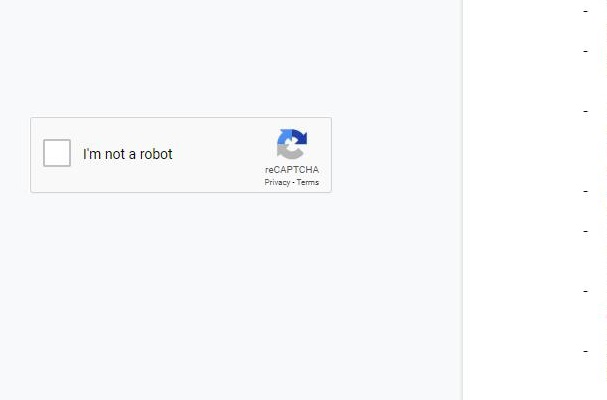captcha: (44, 139, 176, 167)
